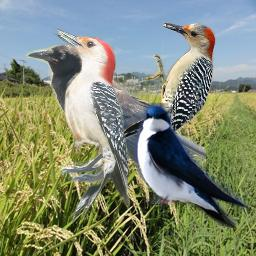Crow: (26, 45, 206, 189)
Swallow: (134, 103, 248, 228)
Woodpecker: (51, 28, 130, 224), (113, 17, 229, 146)
